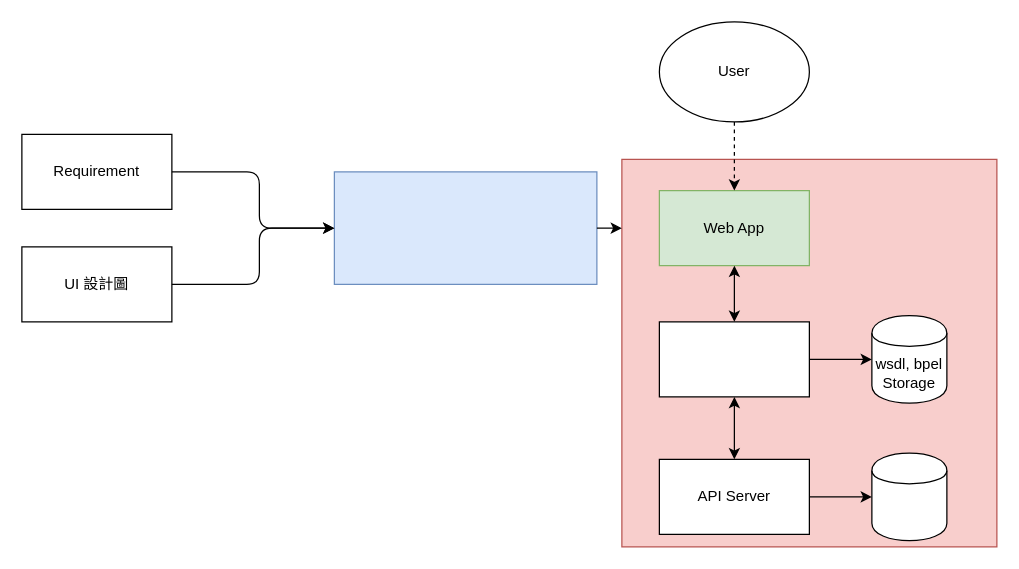
Image size: 1019x569. Some labels were removed from this diagram. Each missing label, with the centre of its shape:
BPEL Engine: point (733, 359)
Service Storage (Jar): point (909, 496)
Software Build Software: point (465, 227)
